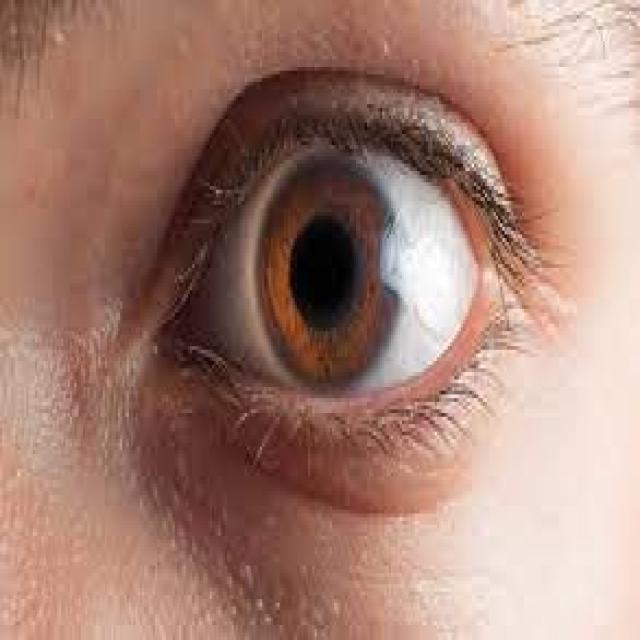Eyes-iris: (250, 145, 407, 399)
